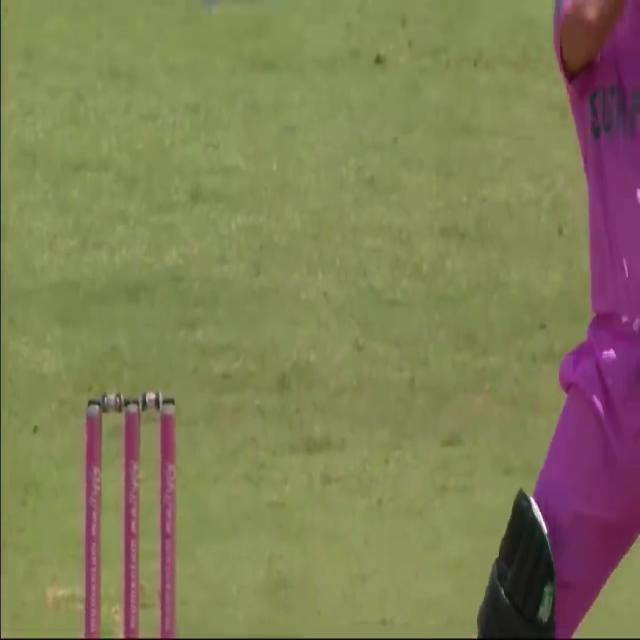Ball: (474, 6, 640, 640)
